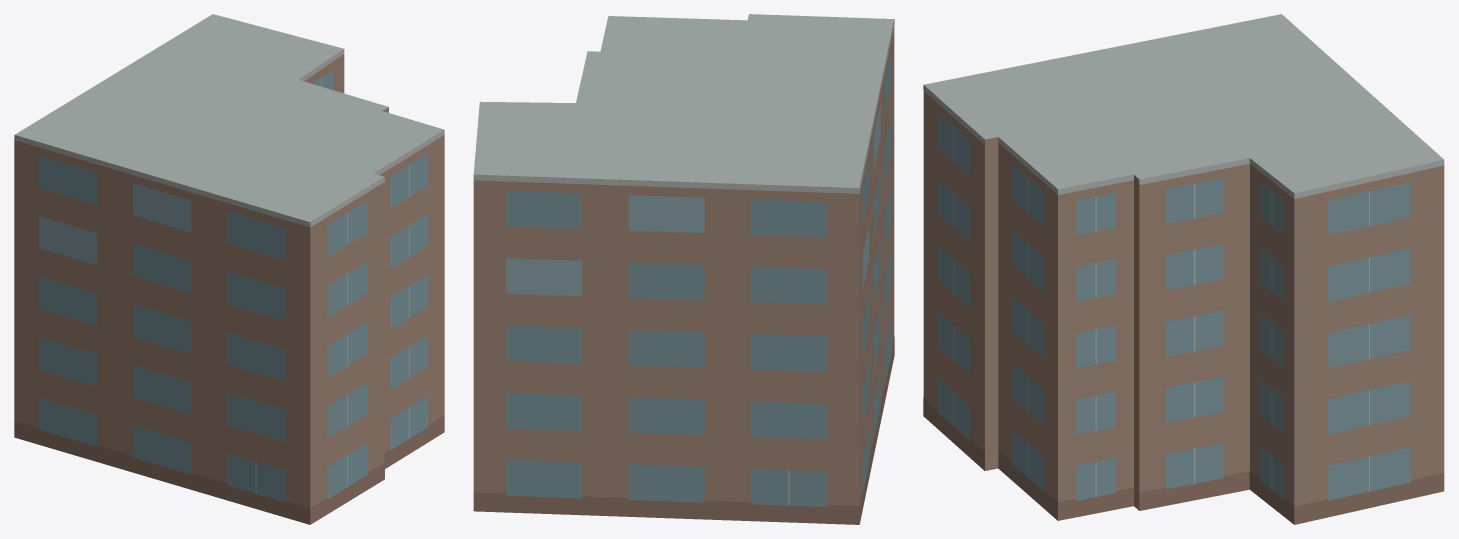
File: survey-upis-32747451.glb
The picture shows the model from 3 angles, left to right: view 1: azimuth 30°, elevation 25°; view 2: azimuth 150°, elevation 25°; view 3: azimuth 270°, elevation 25°; orthographic projection. The views are drawn at different scales.
Visible parts, largest first — view 1: survey-upis-32747451.tmp; view 2: survey-upis-32747451.tmp; view 3: survey-upis-32747451.tmp.
Part boxes in pixels (box(x1,y1,x2,y2)): survey-upis-32747451.tmp: box(14, 14, 444, 524); survey-upis-32747451.tmp: box(473, 14, 894, 524); survey-upis-32747451.tmp: box(923, 14, 1444, 524).
Size of the model in its own units: 16.48 by 14.2 by 20.23.
